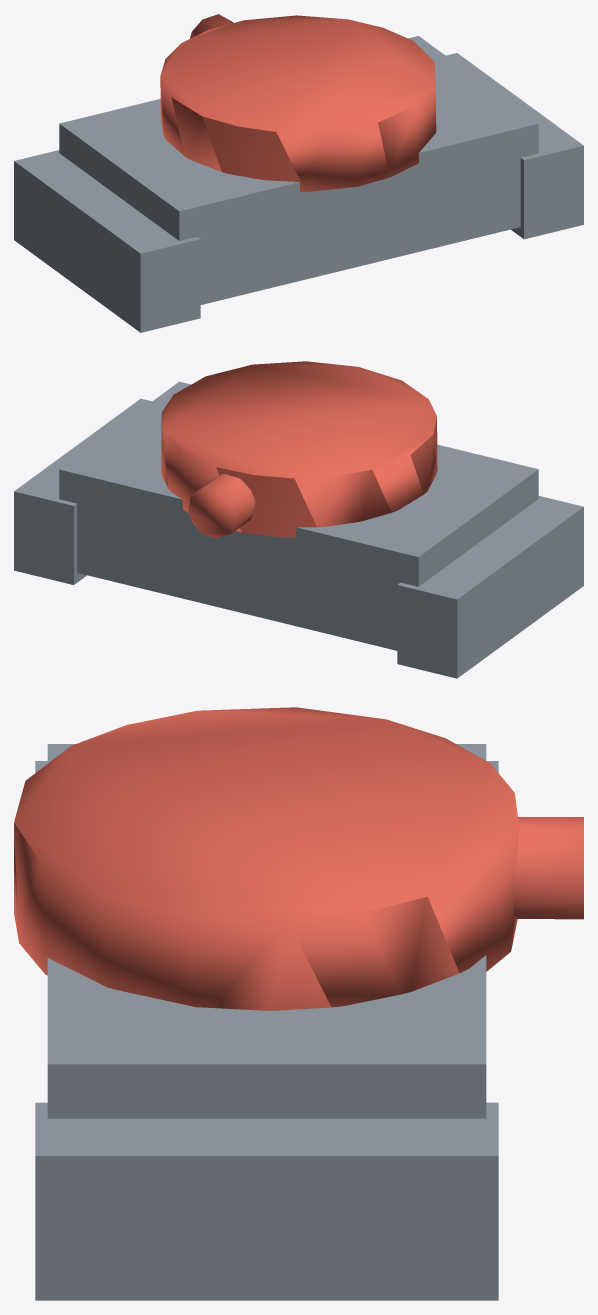
Rendered from SU_RysScout_LOD1.glb.
3 renders of one model, top to bottom at view 1: azimuth 30°, elevation 25°; view 2: azimuth 150°, elevation 25°; view 3: azimuth 270°, elevation 25°, orthographic. The views are drawn at different scales.
Parts seen in each view (by area): view 1: Chassis; view 2: Chassis; view 3: Chassis.
Part boxes in pixels (x1=…): Chassis: x1=14, y1=14, x2=583, y2=332; Chassis: x1=14, y1=361, x2=583, y2=678; Chassis: x1=14, y1=707, x2=583, y2=1300.
Bounding box in the file's own units: 422 × 144 × 257.
